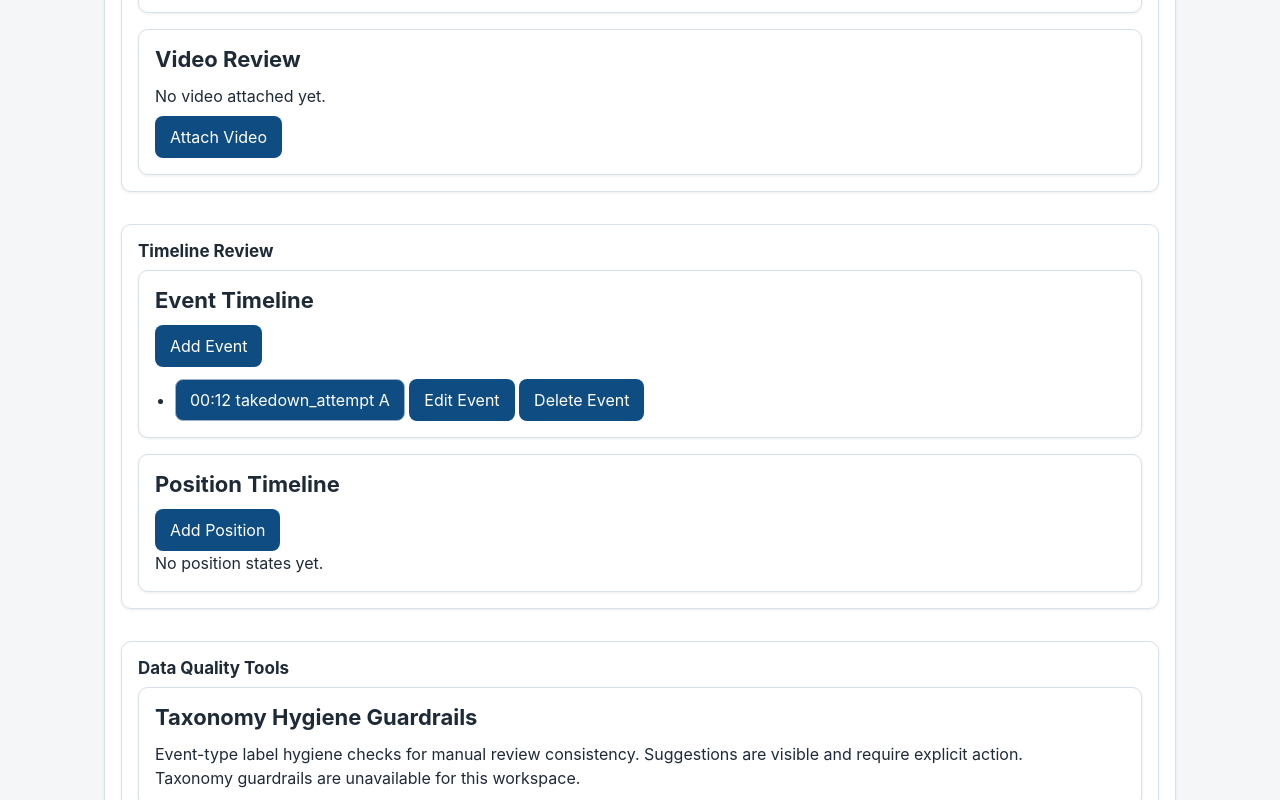
Test case: Timeline events UI › handles event delete flow
The width and height of the screenshot is (1280, 800).
(page scrolled)
Click the button "Delete Event".
click(582, 400)  # box [519, 379, 644, 421]
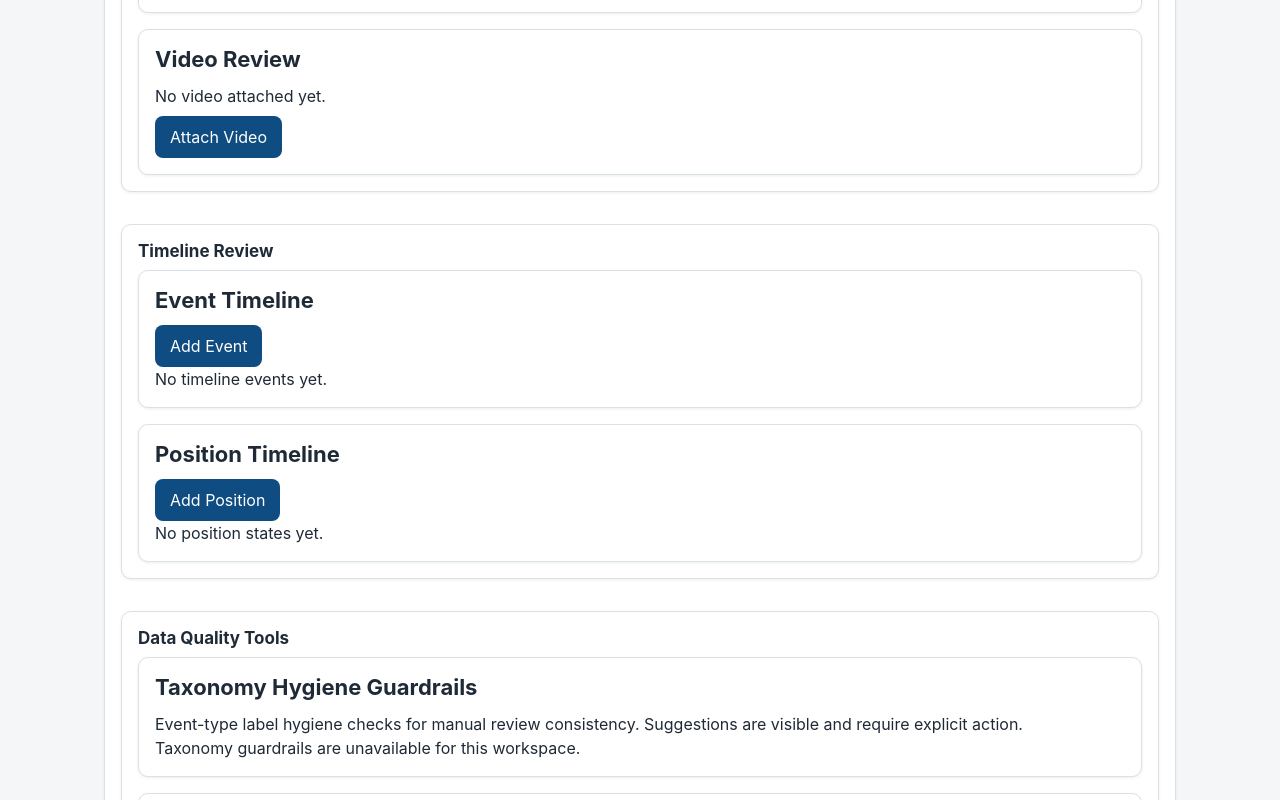
Expected: the text "No timeline events yet." is shown, [155, 369, 327, 389]
